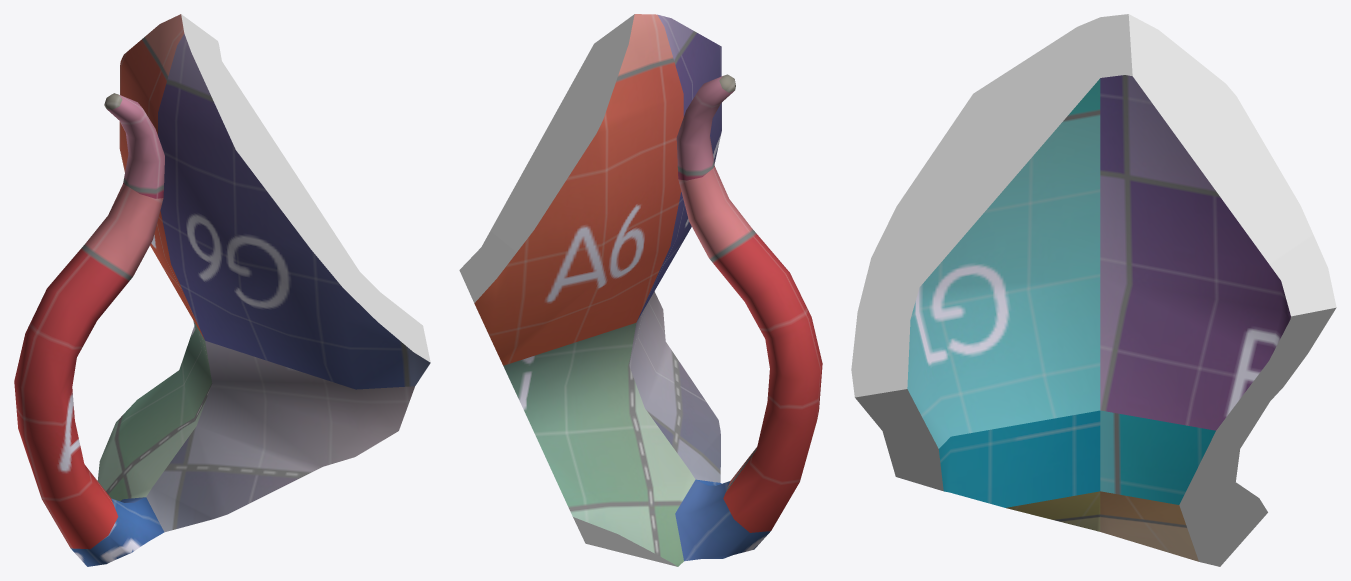
The model's file is RoundVase_SHAT_cell_026.fbx.
3 views of the same model, side by side, from view 1: azimuth 30°, elevation 25°; view 2: azimuth 150°, elevation 25°; view 3: azimuth 270°, elevation 25° (orthographic). The views are drawn at different scales.
Parts seen in each view (by area): view 1: RoundVase_SHAT_cell_026; view 2: RoundVase_SHAT_cell_026; view 3: RoundVase_SHAT_cell_026.
Boxes of the visible parts, box(x1,y1,x2,y2) form: RoundVase_SHAT_cell_026: box(14, 14, 430, 566); RoundVase_SHAT_cell_026: box(459, 14, 822, 566); RoundVase_SHAT_cell_026: box(851, 14, 1336, 566).
Size of the model in its own units: 0.479 by 0.7576 by 0.5835.
2 materials, 1 textured.
